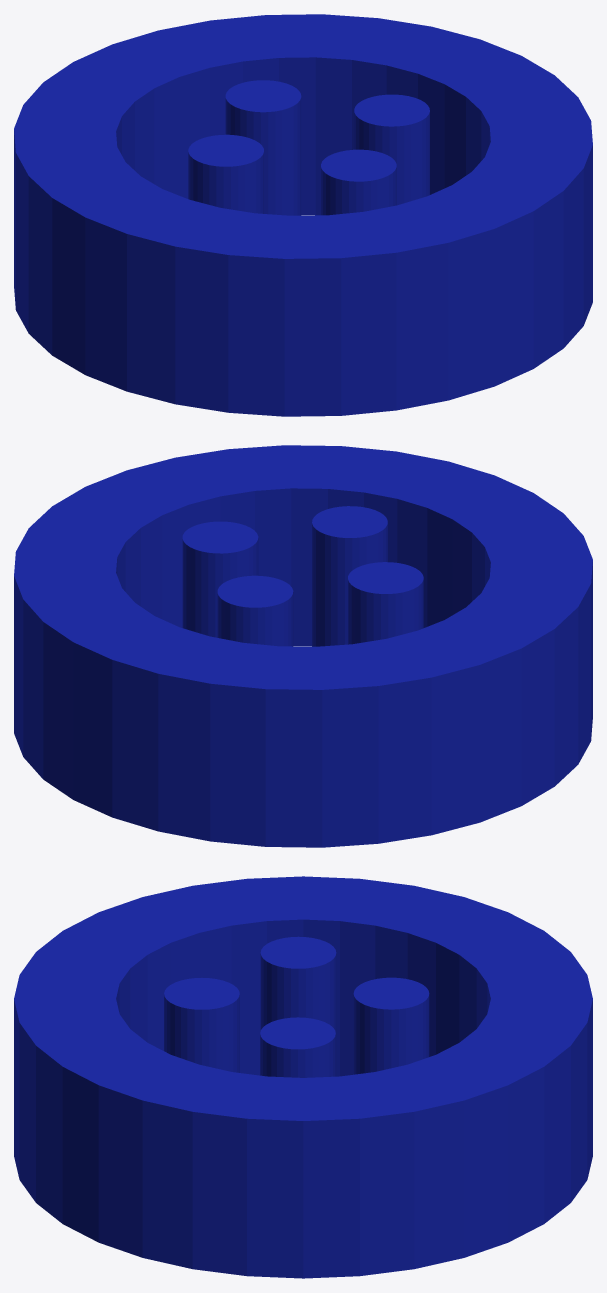
The model's file is verruga.gltf.
3 renders of one model, top to bottom at view 1: azimuth 30°, elevation 25°; view 2: azimuth 150°, elevation 25°; view 3: azimuth 270°, elevation 25°, orthographic.
Parts seen in each view (by area): view 1: Cilindro, Cilindro.001, Cilindro.008, Cilindro.002, Cilindro.007; view 2: Cilindro, Cilindro.007, Cilindro.008, Cilindro.002, Cilindro.001; view 3: Cilindro, Cilindro.001, Cilindro.007, Cilindro.002, Cilindro.008.
Boxes of the visible parts, x1,y1,x2,y2 form: Cilindro: (14, 14, 592, 416); Cilindro.001: (225, 80, 301, 215); Cilindro.008: (354, 94, 429, 205); Cilindro.002: (188, 134, 263, 213); Cilindro.007: (321, 149, 396, 215); Cilindro: (14, 445, 592, 847); Cilindro.007: (312, 506, 387, 646); Cilindro.008: (182, 521, 258, 637); Cilindro.002: (348, 562, 423, 644); Cilindro.001: (217, 575, 293, 646); Cilindro: (14, 876, 592, 1278); Cilindro.001: (353, 977, 429, 1074); Cilindro.007: (164, 978, 239, 1072); Cilindro.002: (260, 936, 336, 1076); Cilindro.008: (260, 1017, 335, 1077).
Bounding box in the file's own units: 1.53 × 0.5 × 1.53.
